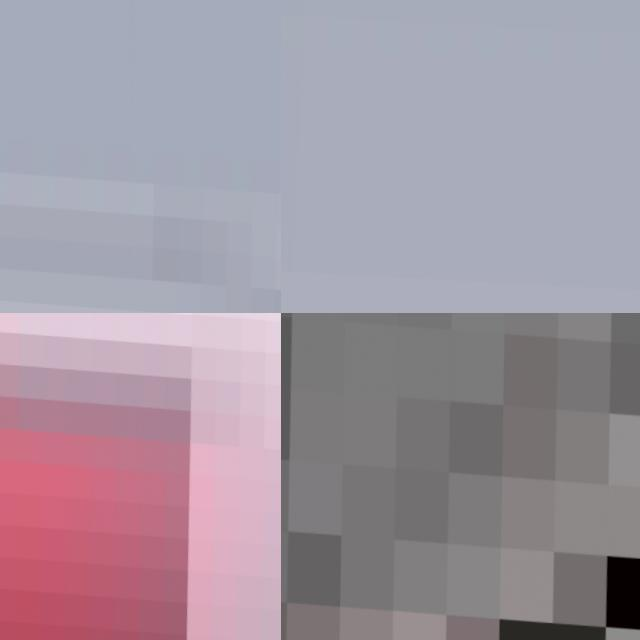drone: (281, 313, 640, 640), (0, 313, 281, 640), (0, 0, 281, 313)
